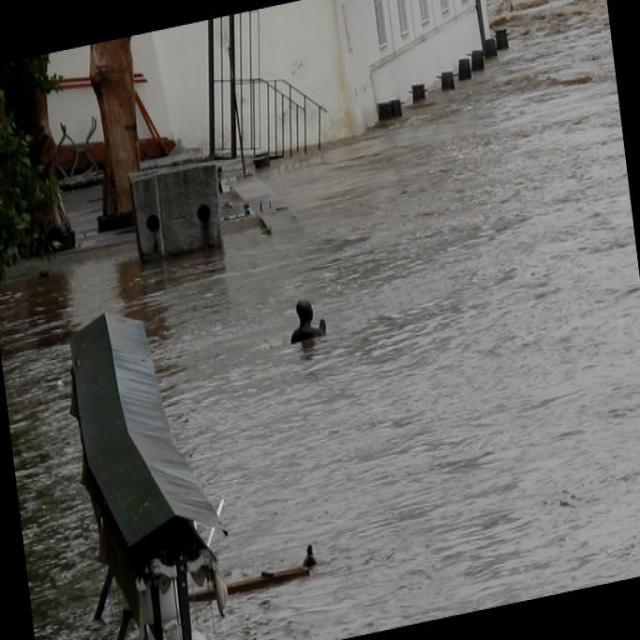flood: (0, 66, 639, 639)
